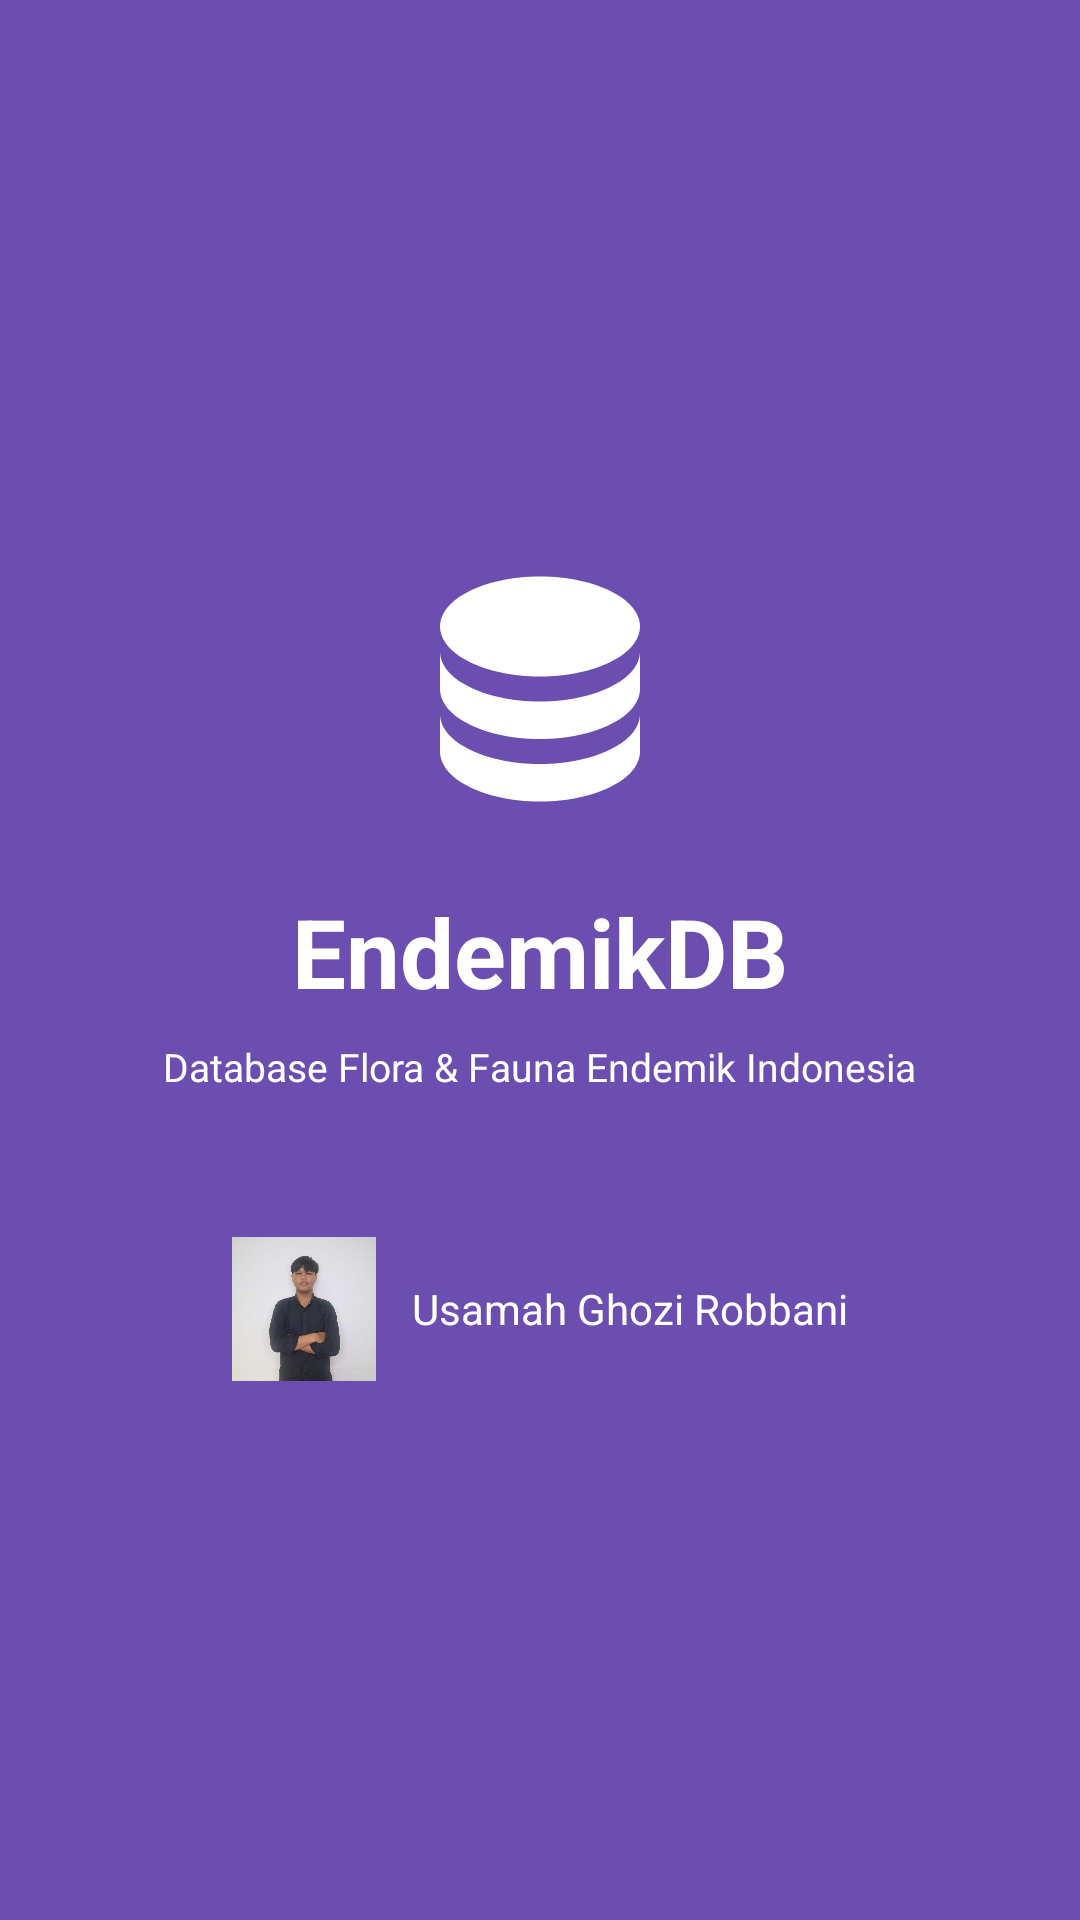

Screen size 1080w x 1920h. Icon name, then its center in pixels as (x=x, y=y):
Developer: (x=304, y=1309)
